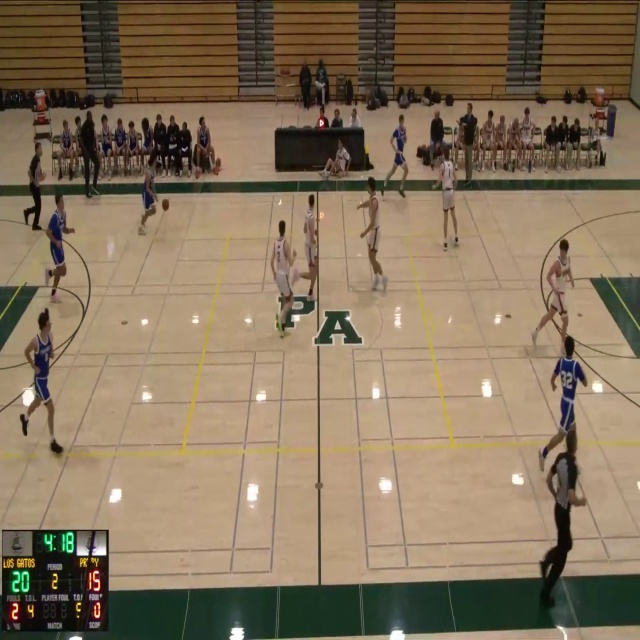Basketball: (162, 199, 169, 210)
